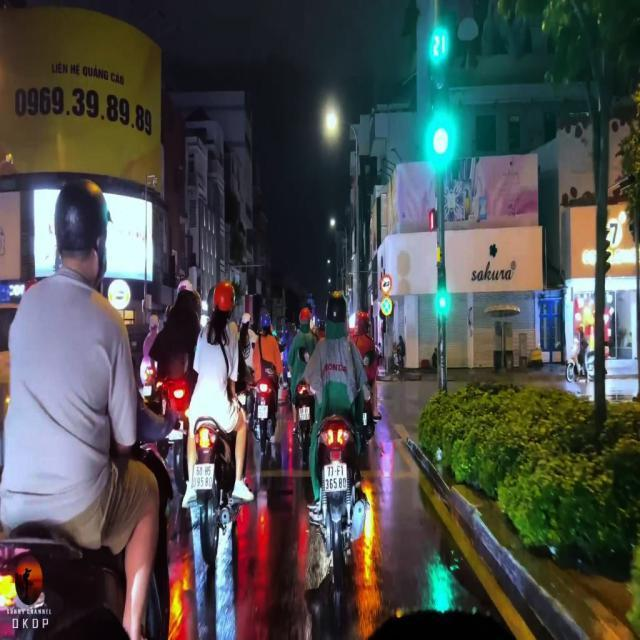106-cam-oto-tai: (381, 274, 392, 294)
